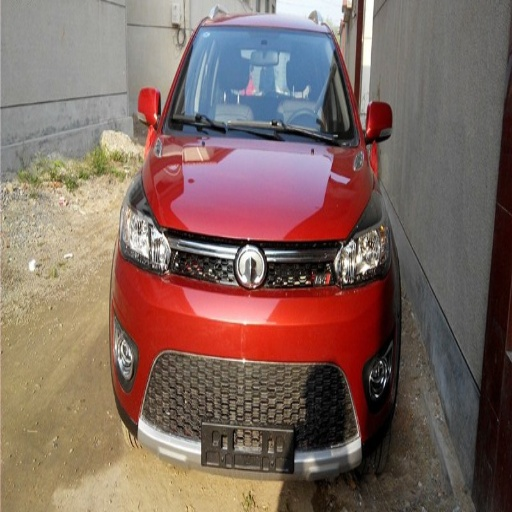front_bumper: (113, 233, 395, 480)
front_right_light: (121, 189, 180, 273)
hood: (145, 128, 374, 239)
left_mirror: (366, 101, 393, 142)
